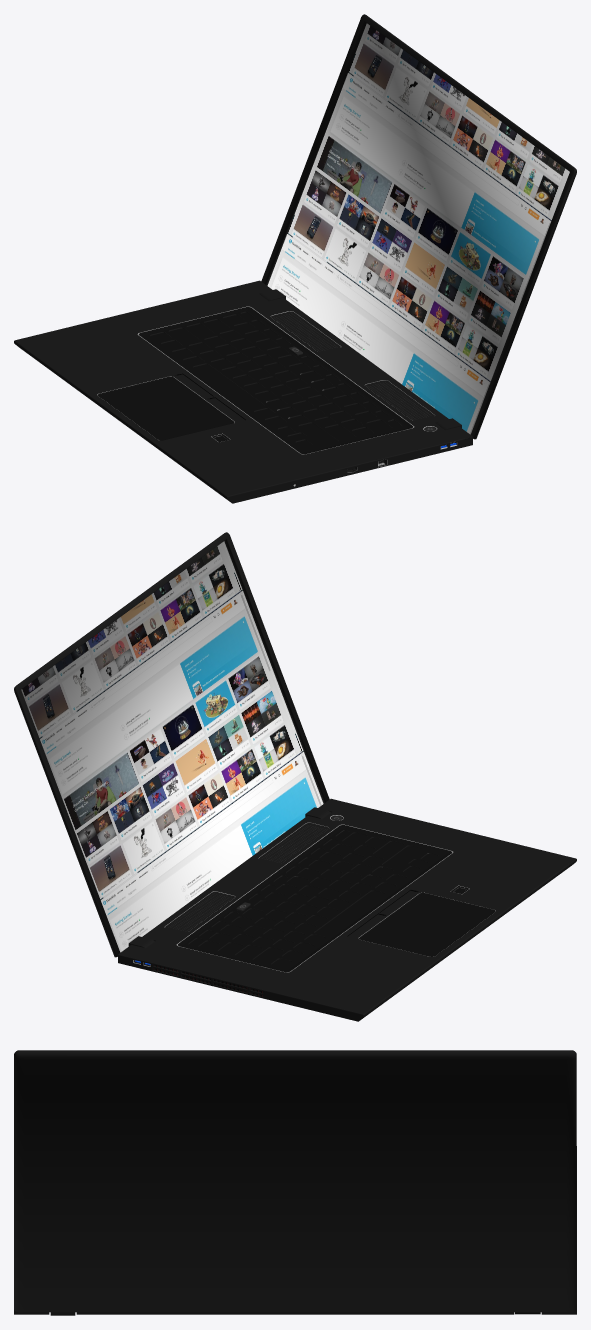
File: laptop-transformed.glb
3 views of the same model, one above another, from view 1: azimuth 30°, elevation 25°; view 2: azimuth 150°, elevation 25°; view 3: azimuth 270°, elevation 25° (orthographic). The views are drawn at different scales.
Visible parts, largest first — view 1: Object_3, Object_9, Object_11, Object_10, Object_8, Object_6, Object_5; view 2: Object_3, Object_9, Object_11, Object_10, Object_8, Object_6, Object_5; view 3: Object_10, Object_9.
Part boxes in pixels (x1=…): Object_3: x1=267, y1=23, x2=569, y2=434; Object_9: x1=14, y1=280, x2=472, y2=503; Object_11: x1=98, y1=307, x2=413, y2=454; Object_10: x1=14, y1=14, x2=576, y2=503; Object_8: x1=150, y1=311, x2=435, y2=445; Object_6: x1=271, y1=311, x2=433, y2=420; Object_5: x1=97, y1=306, x2=457, y2=486; Object_3: x1=21, y1=541, x2=323, y2=952; Object_9: x1=118, y1=798, x2=575, y2=1021; Object_11: x1=177, y1=825, x2=495, y2=972; Object_10: x1=14, y1=532, x2=576, y2=1015; Object_8: x1=188, y1=816, x2=438, y2=964; Object_6: x1=167, y1=823, x2=328, y2=931; Object_5: x1=133, y1=815, x2=495, y2=972; Object_10: x1=14, y1=1050, x2=576, y2=1312; Object_9: x1=14, y1=1146, x2=576, y2=1315.
Size of the model in its own units: 3.61 by 2.46 by 3.8.
7 materials, 3 textured.
